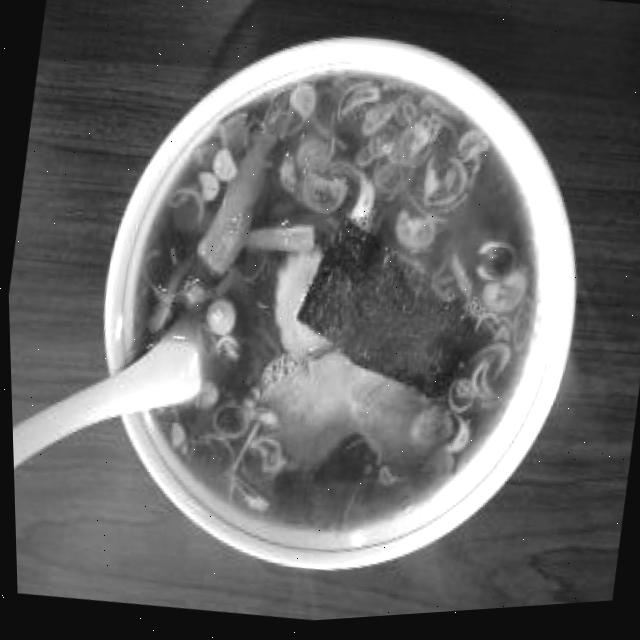面条主食: (49, 0, 636, 637)
